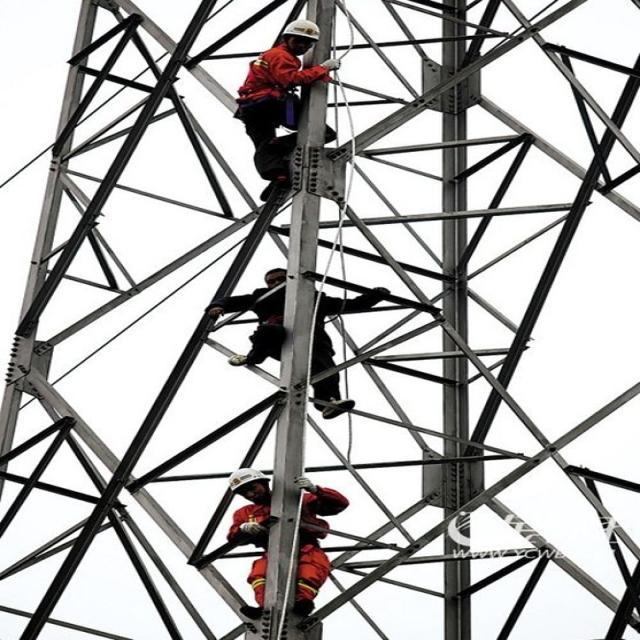non-critical vegetation: (17, 6, 637, 588)
